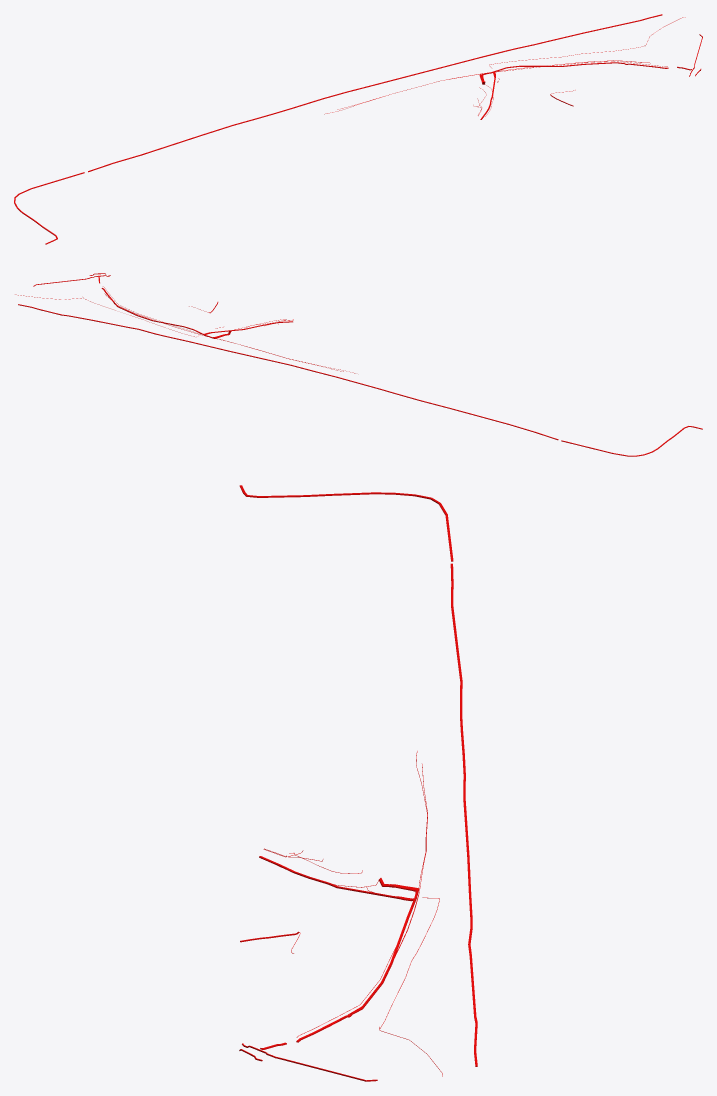
File: 8edd868f-6bd0-462a-b22a-af0d06c2e8cd.glb
3 renders of one model, top to bottom at view 1: azimuth 30°, elevation 25°; view 2: azimuth 150°, elevation 25°; view 3: azimuth 270°, elevation 25°, orthographic. The views are drawn at different scales.
Parts seen in each view (by area): view 1: 104; view 2: 104; view 3: 104.
Part boxes in pixels (box(x1,y1,x2,y2)): 104: box(88, 14, 662, 172); 104: box(18, 304, 558, 440); 104: box(450, 563, 477, 1066).
Bounding box in the file's own units: 382 × 10.7 × 61.86.
